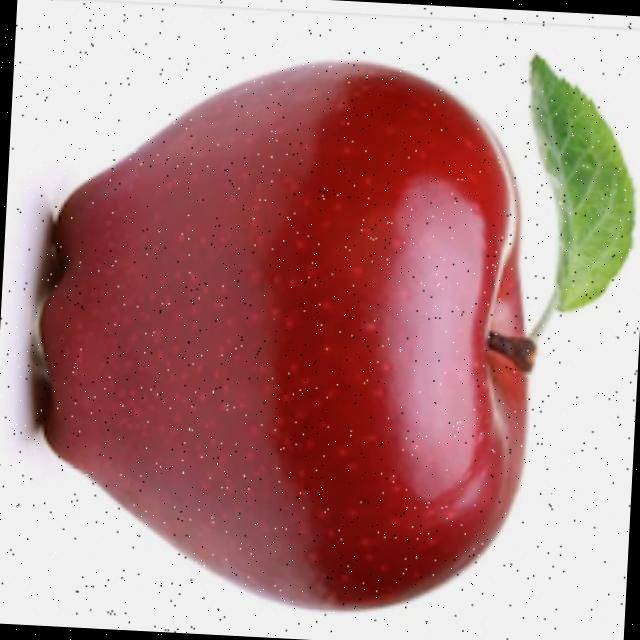Ripe: (19, 32, 554, 628)
